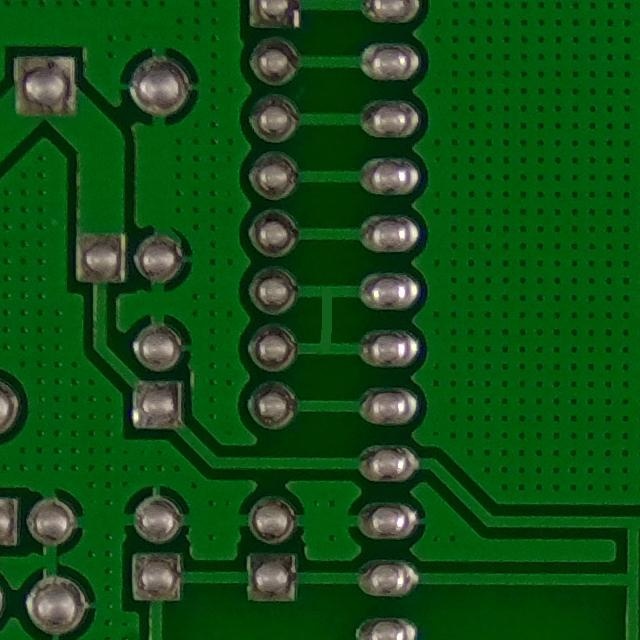short: (271, 274, 370, 367)
